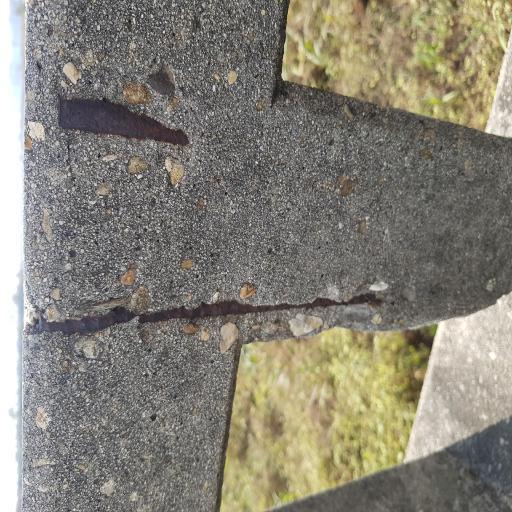exposed_rebar: (59, 98, 188, 146), (39, 308, 136, 334), (192, 299, 346, 315), (140, 308, 186, 324), (350, 293, 382, 308)
